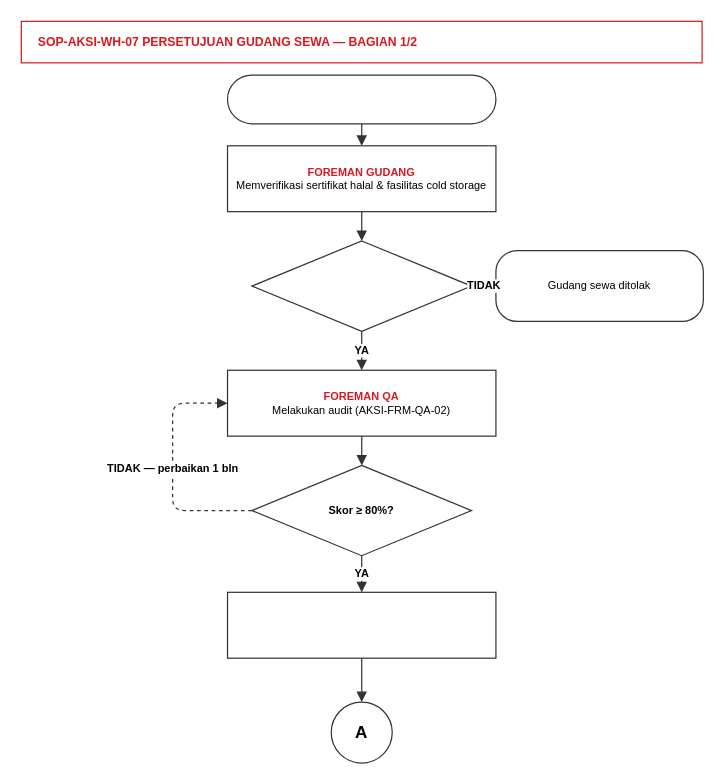
This 725x784 diagram has some shape labels left out. Here are the shapes that lost their labels. From the top down, the centre of each, then its label:
At [361,99]: "MULAI — penawaran Gudang sewa".
At [361,285]: "Persyaratan dasar terpenuhi?".
At [361,624]: "FOREMAN GUDANG Meminta penawaran harga & legalitas".
